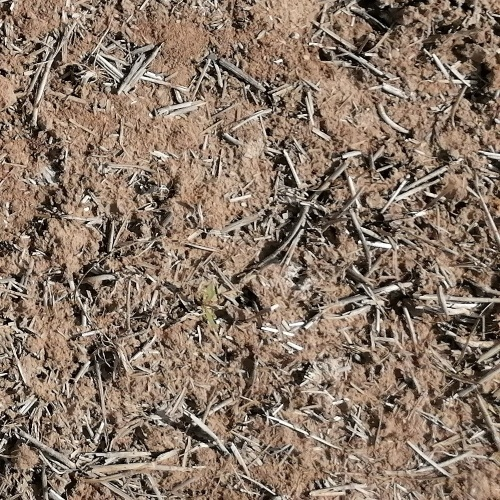beet: (202, 288, 221, 332)
